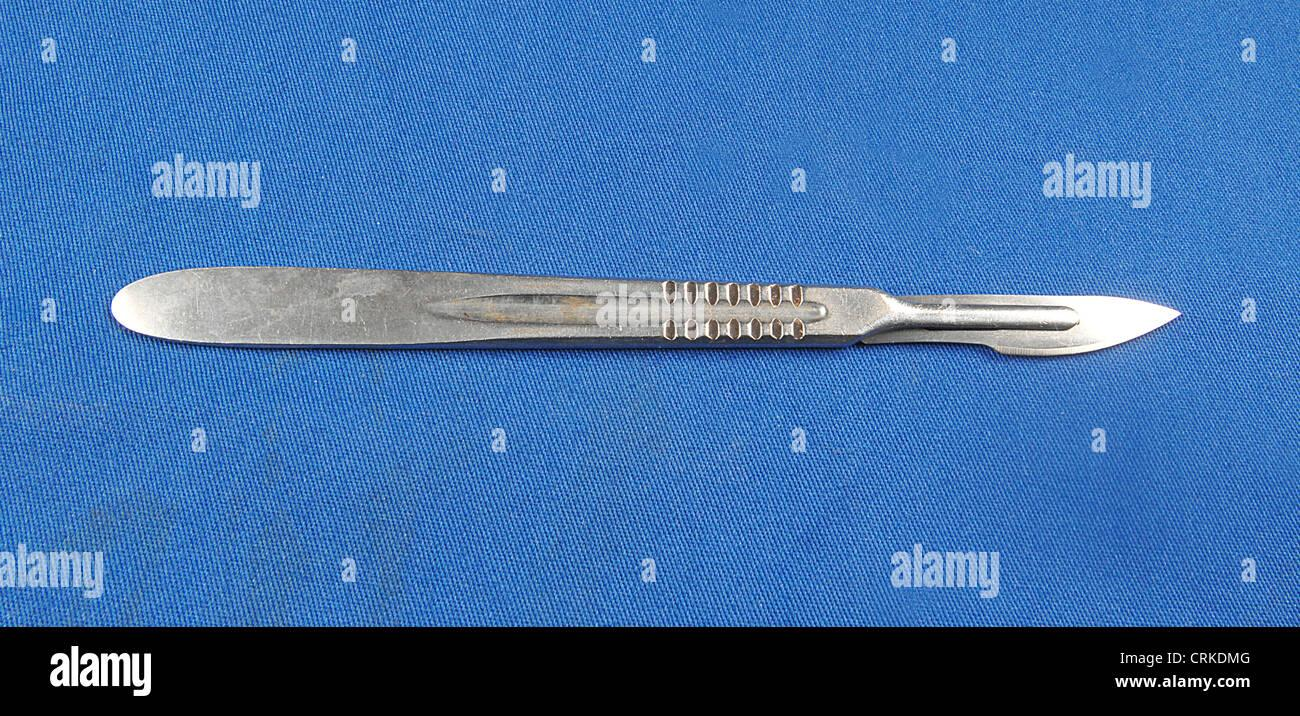Knife Blade: (891, 277, 1213, 361)
Knife Handle: (91, 259, 1073, 343)
